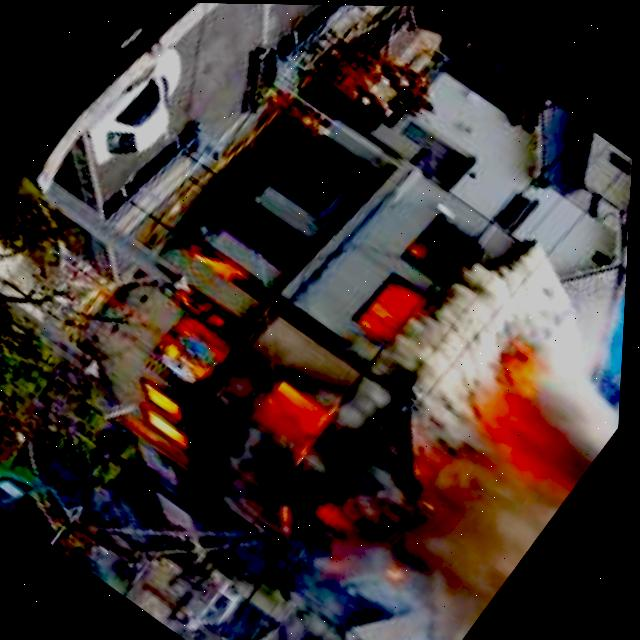Fire: (64, 230, 468, 593), (353, 260, 437, 349)
Smoke: (270, 210, 632, 640)
